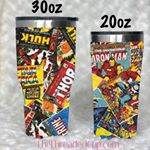cups: (13, 15, 81, 139), (88, 30, 147, 142)
